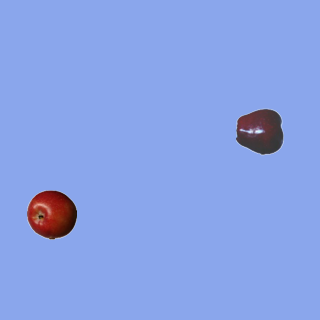Apple Braeburn: (26, 189, 76, 239)
Apple Red Delicious: (235, 106, 285, 156)
